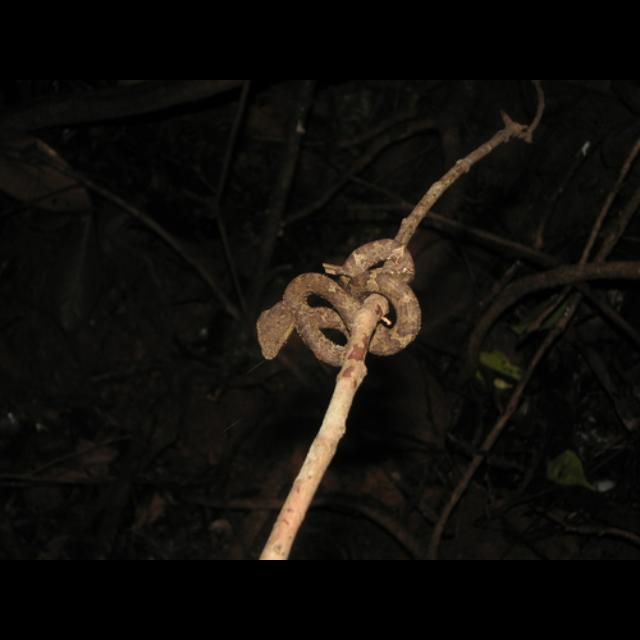snake: (253, 238, 423, 368)
